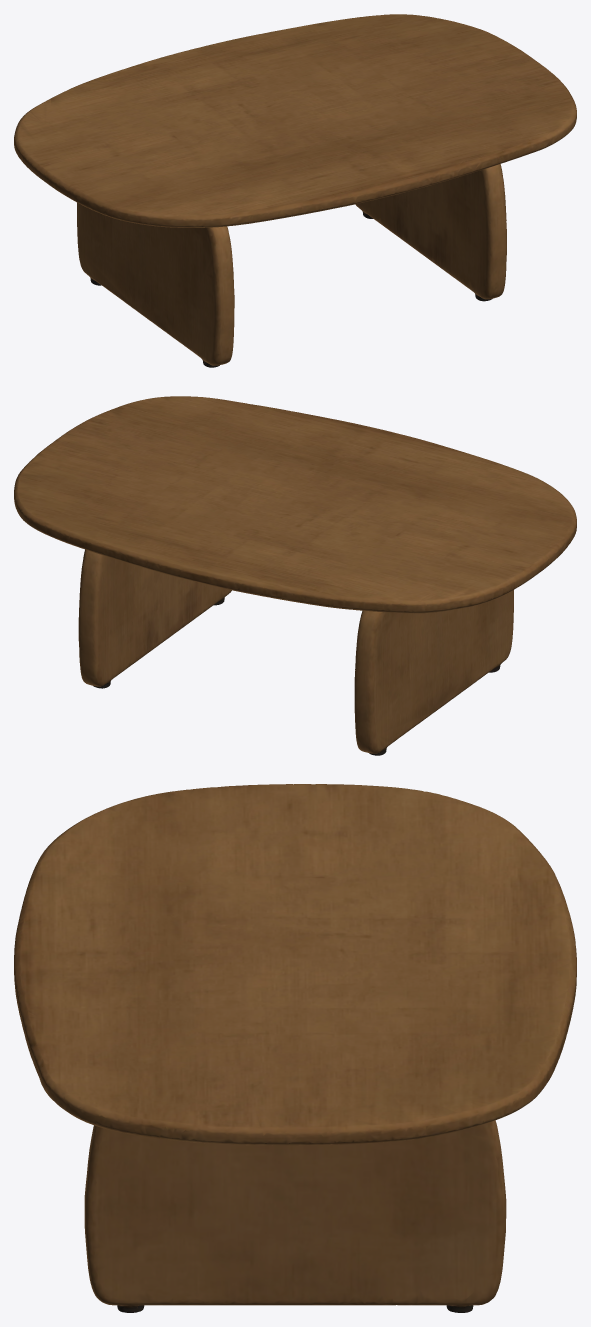
Rendered from table.glb.
3 renders of one model, top to bottom at view 1: azimuth 30°, elevation 25°; view 2: azimuth 150°, elevation 25°; view 3: azimuth 270°, elevation 25°, orthographic. The views are drawn at different scales.
Visible parts, largest first — view 1: geometry_0; view 2: geometry_0; view 3: geometry_0.
Boxes of the visible parts, x1,y1,x2,y2 form: geometry_0: [14, 14, 576, 367]; geometry_0: [14, 396, 576, 755]; geometry_0: [14, 784, 576, 1312].
Bounding box in the file's own units: 1 × 0.3423 × 0.6846.
Materials: 1 (1 with a texture image).
